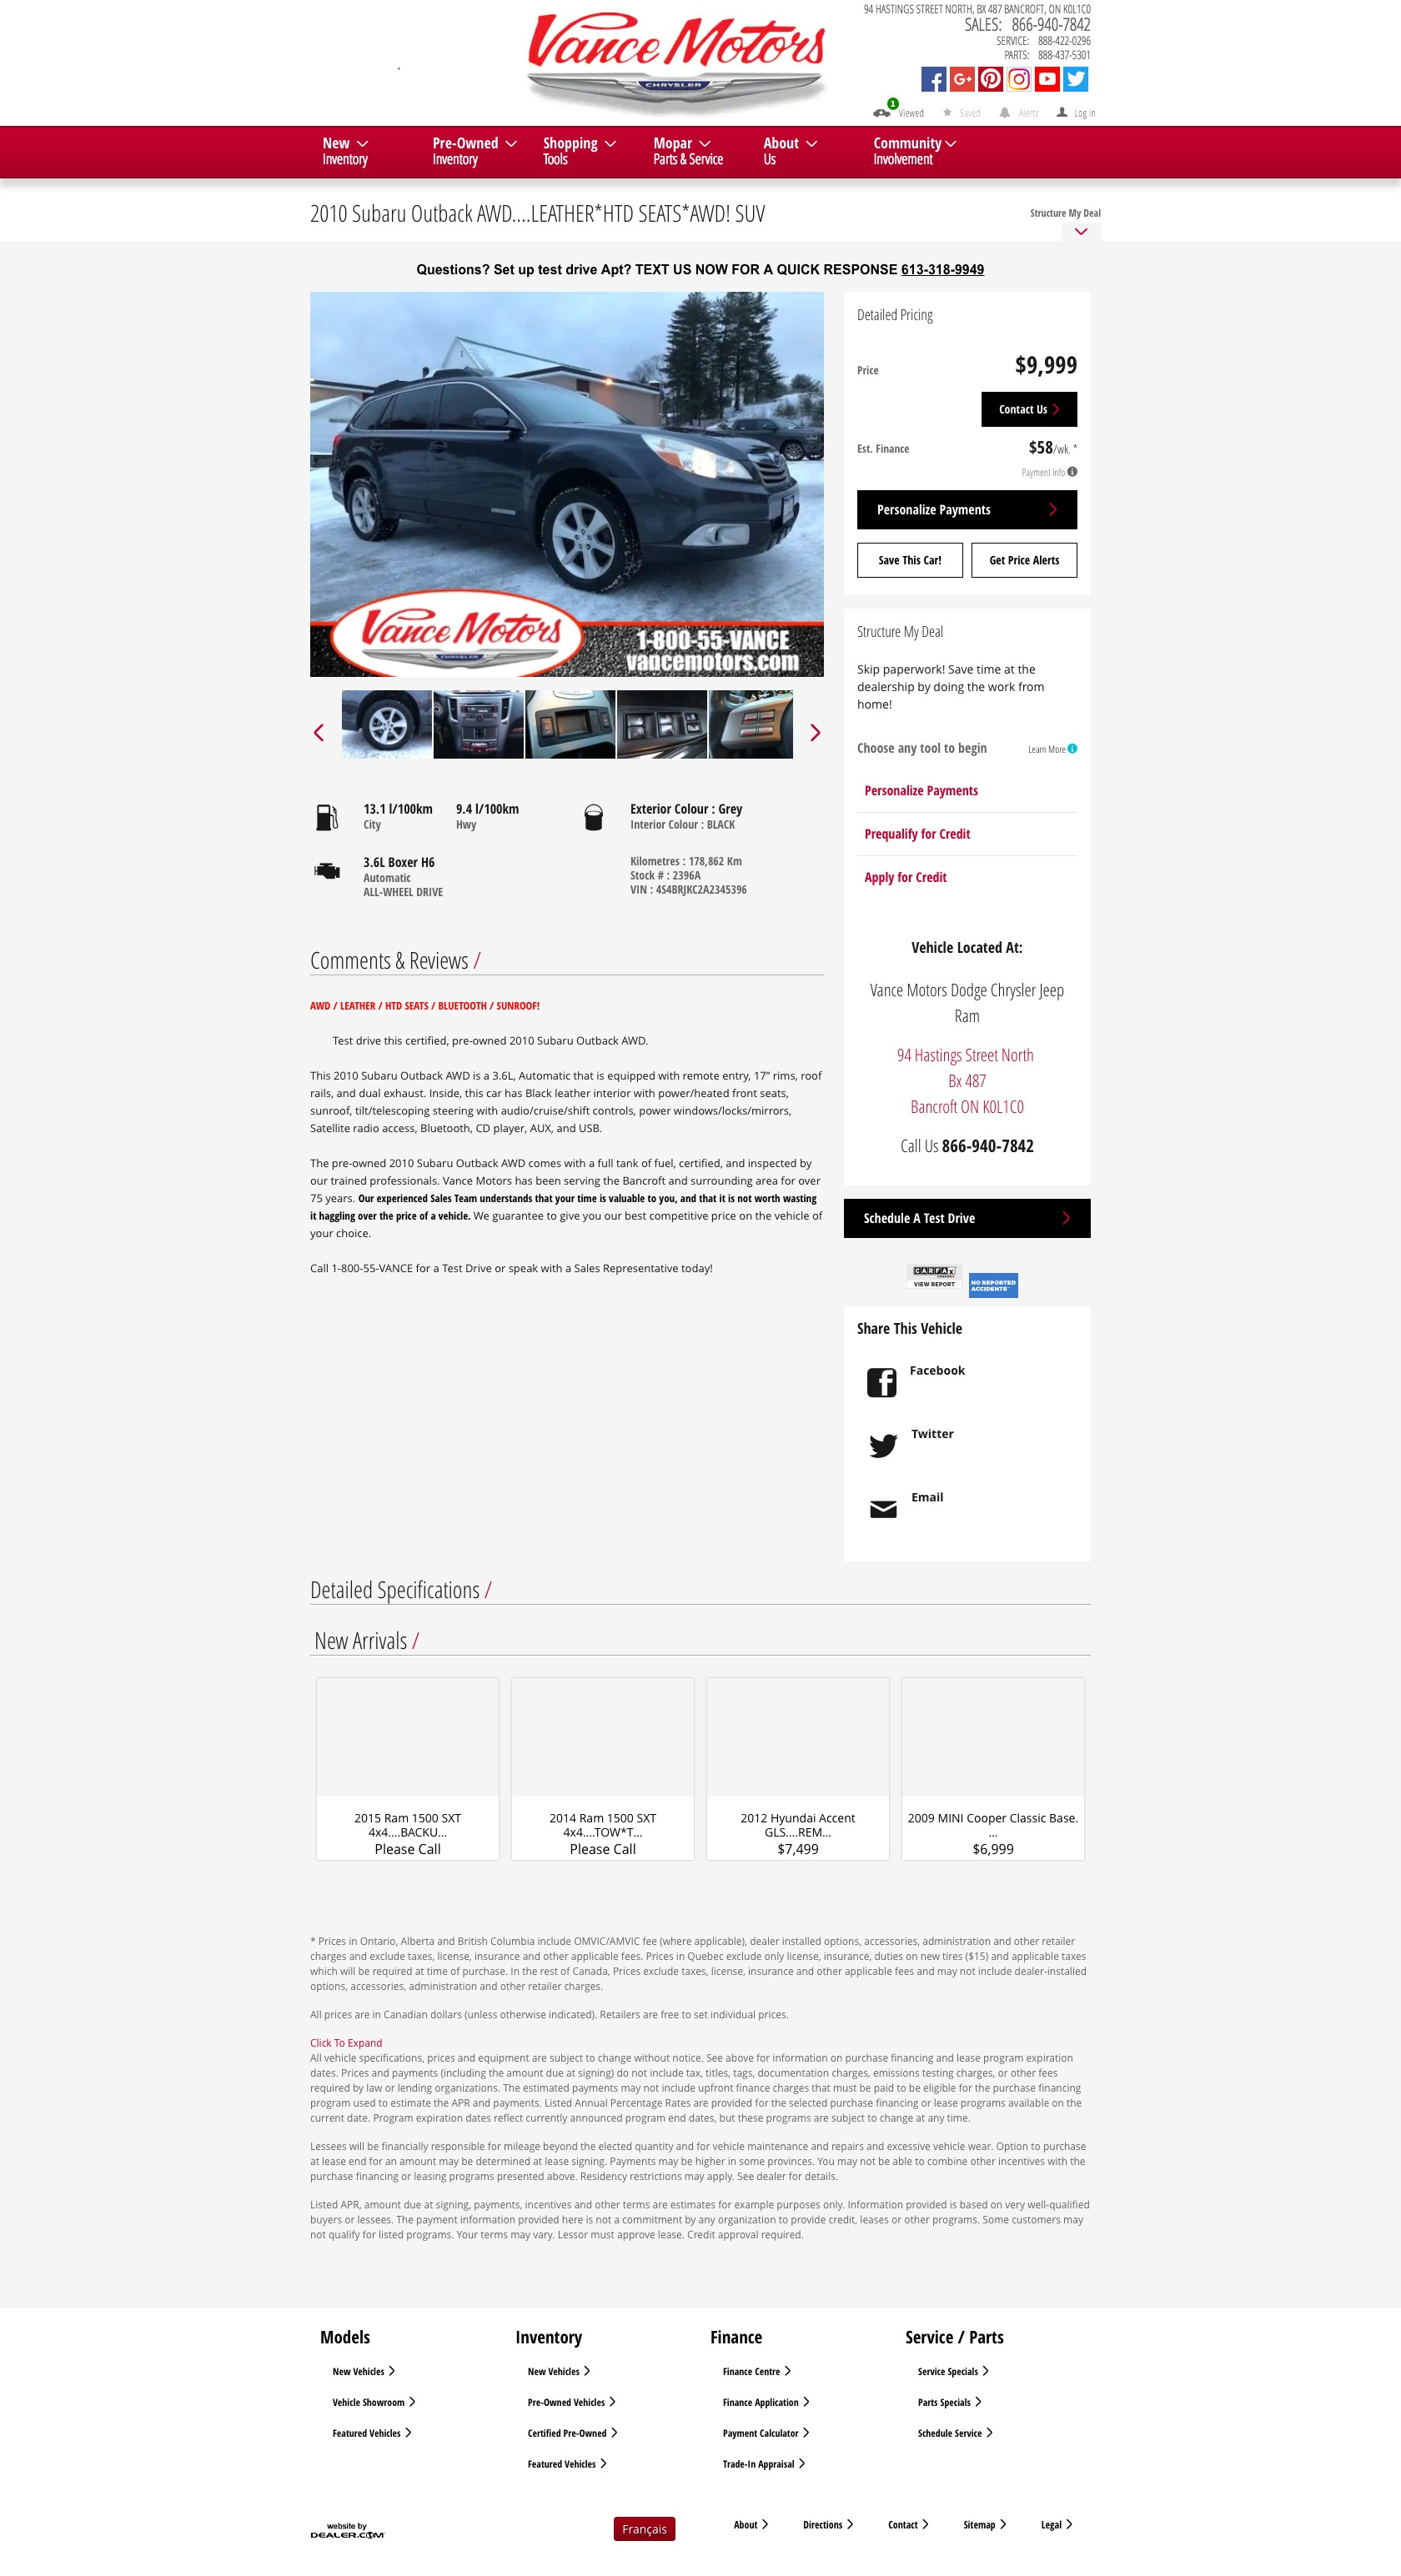car: (809, 722, 823, 743)
